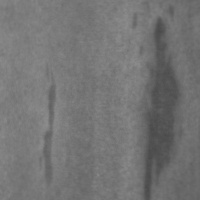inclusion: (137, 12, 183, 199), (35, 61, 62, 195), (126, 11, 143, 34)
